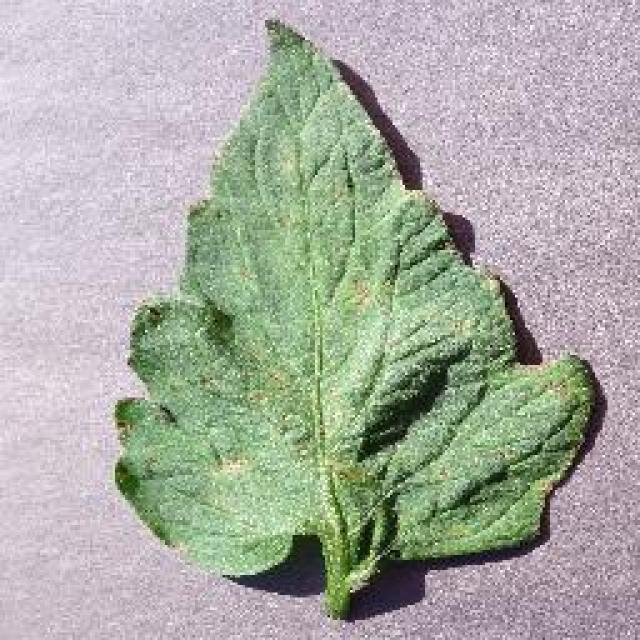Tomato Septoria spot leaf: (114, 21, 596, 579)
